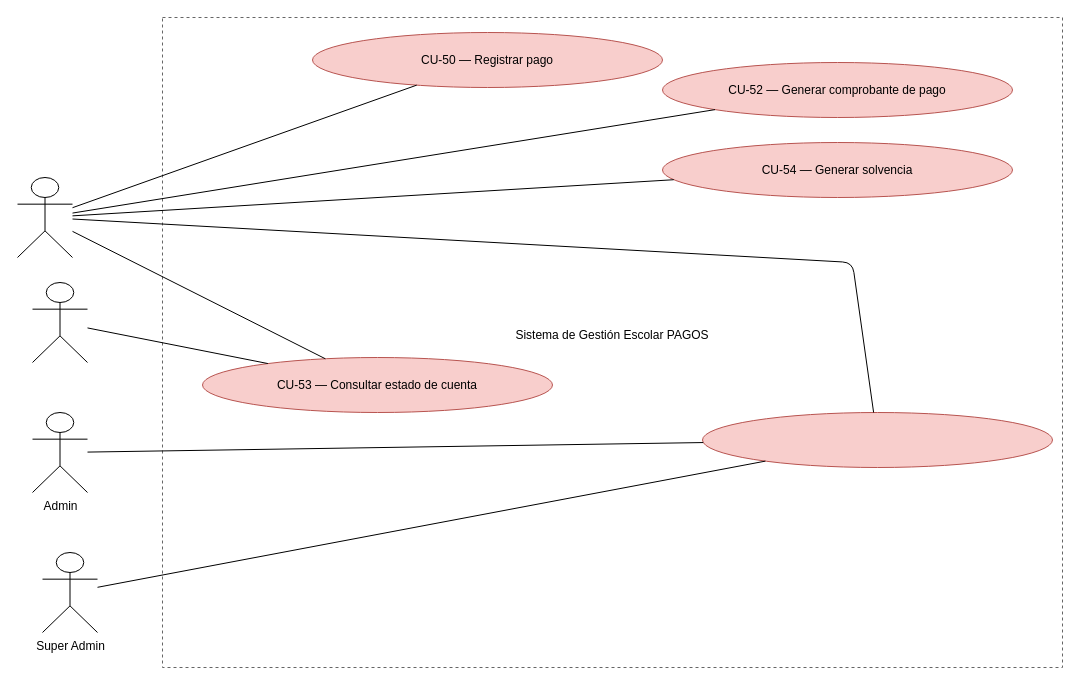
Image size: 1080x685. Some labels were removed from this diagram. The centre of each missing label's shape, as x and y in pixels:
"CU-51 — Consultar pagos" goes at (x=877, y=440).
"Estudiante" goes at (x=60, y=322).
"Secretaria" goes at (x=44, y=217).
